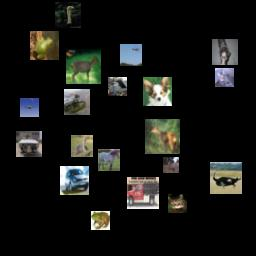airplane: (120, 44, 142, 66), (20, 98, 39, 117)
automobile: (60, 166, 89, 195)
bird: (210, 162, 242, 194), (55, 2, 81, 28), (71, 135, 93, 157)
cat: (215, 68, 234, 87), (168, 194, 187, 213)
deer: (66, 49, 101, 84), (145, 119, 180, 154), (163, 157, 179, 173)
dog: (143, 77, 172, 106), (212, 39, 238, 65)
frog: (30, 31, 59, 60), (64, 89, 90, 115), (91, 211, 110, 230)
ship: (16, 131, 42, 157)
truck: (127, 177, 159, 209), (108, 77, 127, 96)
